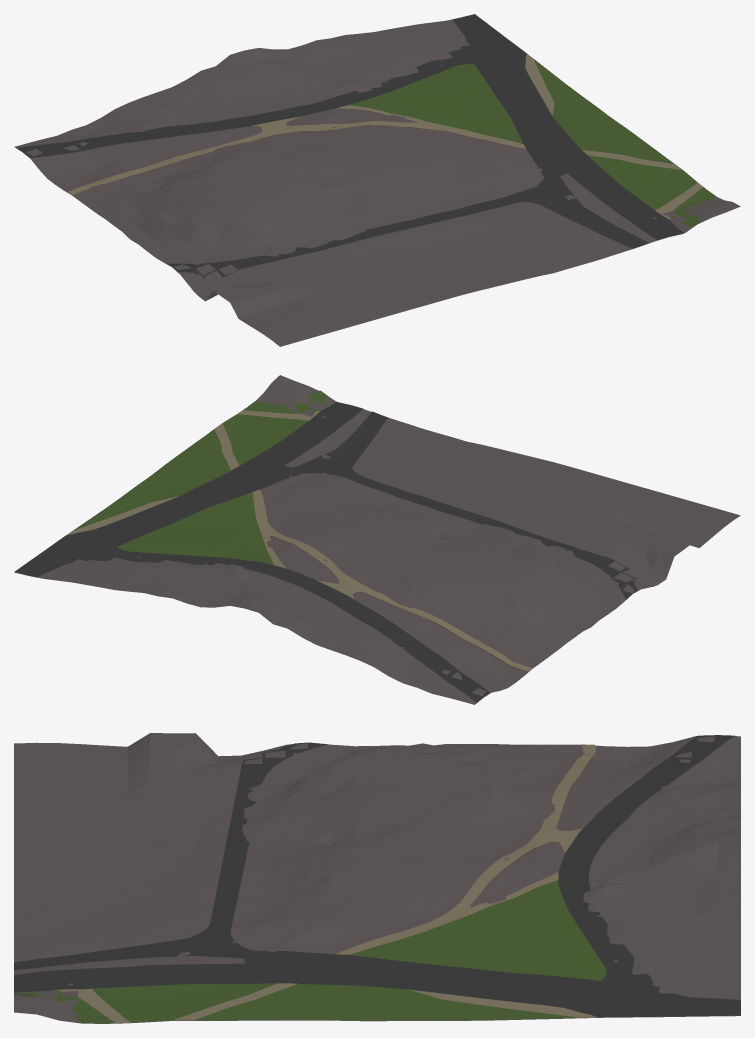
The picture shows the model from 3 angles, top to bottom: view 1: azimuth 30°, elevation 25°; view 2: azimuth 150°, elevation 25°; view 3: azimuth 270°, elevation 25°; orthographic projection. The views are drawn at different scales.
Visible parts, largest first — view 1: c_m11_m17; view 2: c_m11_m17; view 3: c_m11_m17.
Part boxes in pixels (left/top/right/bottom): c_m11_m17: left=14, top=14, right=740, bottom=346; c_m11_m17: left=14, top=375, right=740, bottom=704; c_m11_m17: left=14, top=733, right=740, bottom=1023.
Bounding box in the file's own units: 128 × 14.54 × 128.
